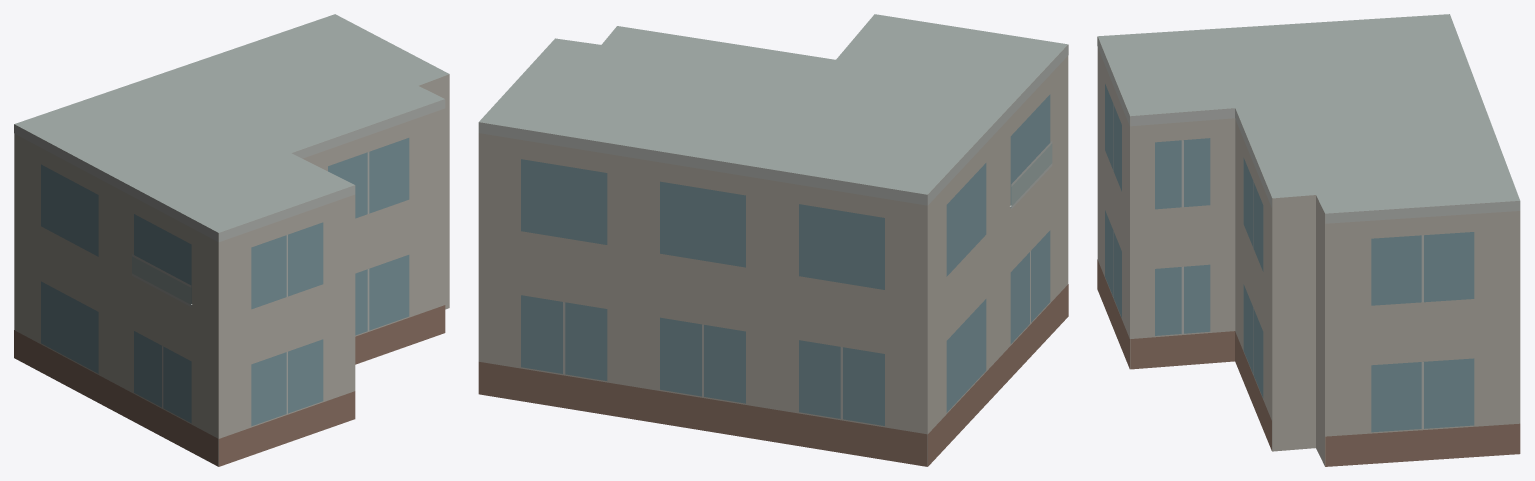
File: survey-upis-33027566.glb
3 renders of one model, left to right at view 1: azimuth 30°, elevation 25°; view 2: azimuth 150°, elevation 25°; view 3: azimuth 270°, elevation 25°, orthographic. The views are drawn at different scales.
Visible parts, largest first — view 1: survey-upis-33027566.tmp; view 2: survey-upis-33027566.tmp; view 3: survey-upis-33027566.tmp.
Boxes of the visible parts, x1,y1,x2,y2 form: survey-upis-33027566.tmp: [14, 14, 449, 466]; survey-upis-33027566.tmp: [478, 14, 1068, 466]; survey-upis-33027566.tmp: [1097, 14, 1520, 466].
Bounding box in the file's own units: 10.33 × 6.1 × 9.24.
